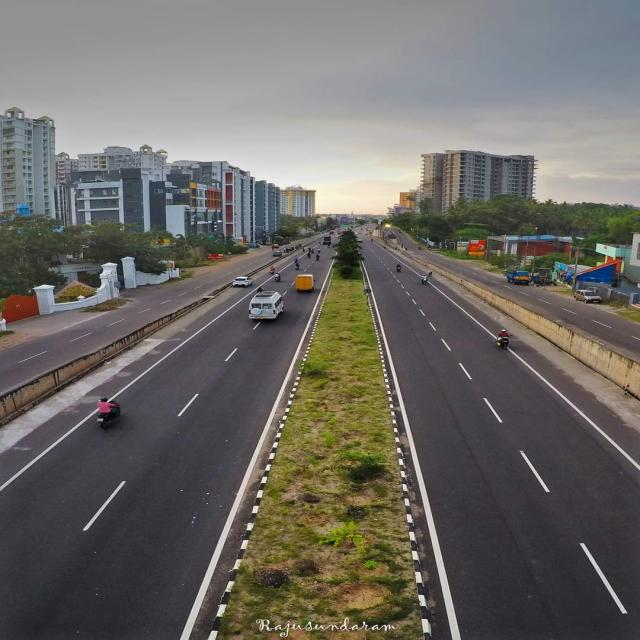Clean road: (0, 223, 640, 640)
